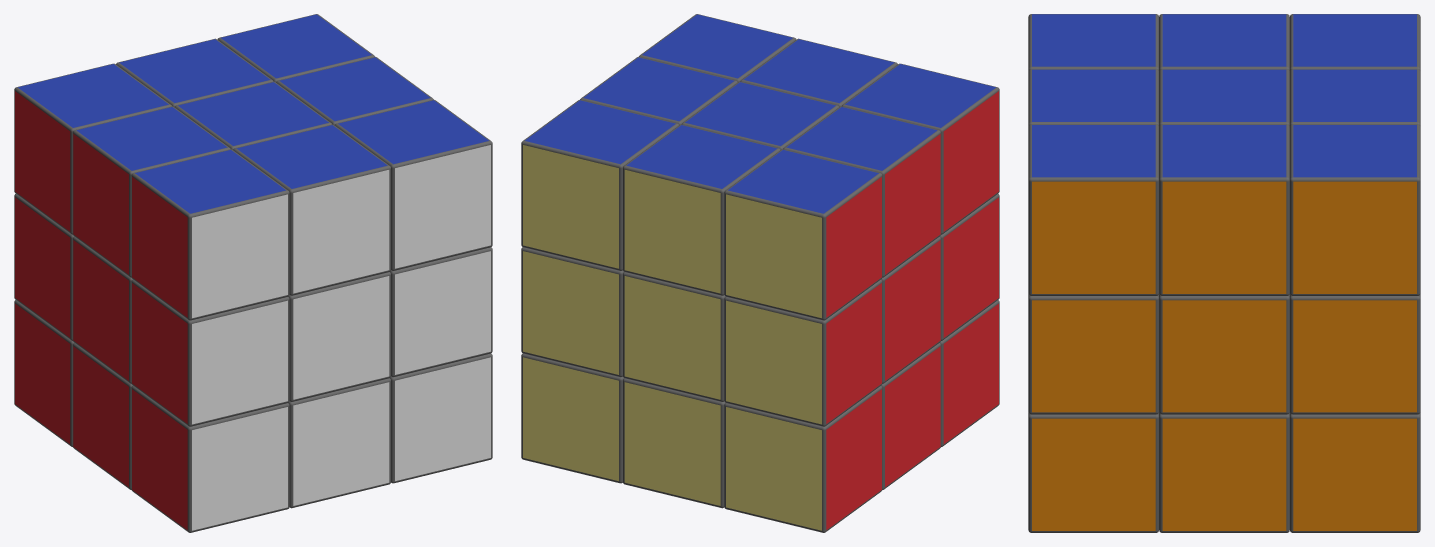
Rendered from rubiks_cube2.glb.
3 views of the same model, side by side, from view 1: azimuth 30°, elevation 25°; view 2: azimuth 150°, elevation 25°; view 3: azimuth 270°, elevation 25° (orthographic). The views are drawn at different scales.
Visible parts, largest first — view 1: Cube.018, Cube, Cube.009, Cube.019, Cube.020, Cube.024, Cube.021, Cube.002, Cube.001, Cube.010, Cube.011, Cube.012 (+7 smaller); view 2: Cube.024, Cube.006, Cube.015, Cube.025, Cube.026, Cube.018, Cube.021, Cube.008, Cube.007, Cube.016, Cube.017, Cube.009 (+7 smaller); view 3: Cube.020, Cube.026, Cube.023, Cube.011, Cube.017, Cube.005, Cube.014, Cube.002, Cube.008, Cube.021, Cube.022, Cube.018 (+3 smaller).
Part boxes in pixels (x1,y1,x2,y2): Cube.018: [131, 149, 289, 320]; Cube: [131, 386, 289, 532]; Cube.009: [131, 279, 289, 426]; Cube.019: [233, 124, 390, 295]; Cube.020: [334, 100, 492, 270]; Cube.024: [14, 63, 171, 234]; Cube.021: [73, 106, 230, 277]; Cube.002: [390, 353, 492, 483]; Cube.001: [288, 378, 390, 508]; Cube.010: [288, 272, 390, 401]; Cube.011: [390, 247, 492, 377]; Cube.012: [73, 236, 132, 383]; Cube.024: [724, 149, 882, 320]; Cube.006: [724, 386, 882, 532]; Cube.015: [724, 279, 882, 426]; Cube.025: [623, 124, 780, 295]; Cube.026: [521, 100, 679, 270]; Cube.018: [842, 63, 999, 234]; Cube.021: [783, 106, 940, 277]; Cube.008: [521, 353, 623, 483]; Cube.007: [623, 378, 725, 508]; Cube.016: [623, 272, 725, 401]; Cube.017: [521, 247, 623, 377]; Cube.009: [940, 194, 999, 340]; Cube.020: [1028, 124, 1158, 295]; Cube.026: [1290, 124, 1420, 295]; Cube.023: [1159, 124, 1289, 295]; Cube.011: [1028, 293, 1158, 414]; Cube.017: [1290, 293, 1420, 414]; Cube.005: [1159, 412, 1289, 532]; Cube.014: [1159, 293, 1289, 414]; Cube.002: [1028, 412, 1158, 532]; Cube.008: [1290, 412, 1420, 532]; Cube.021: [1159, 14, 1289, 71]; Cube.022: [1159, 69, 1289, 126]; Cube.018: [1028, 14, 1158, 71].
Bounding box in the file's own units: 3 × 3 × 3.
